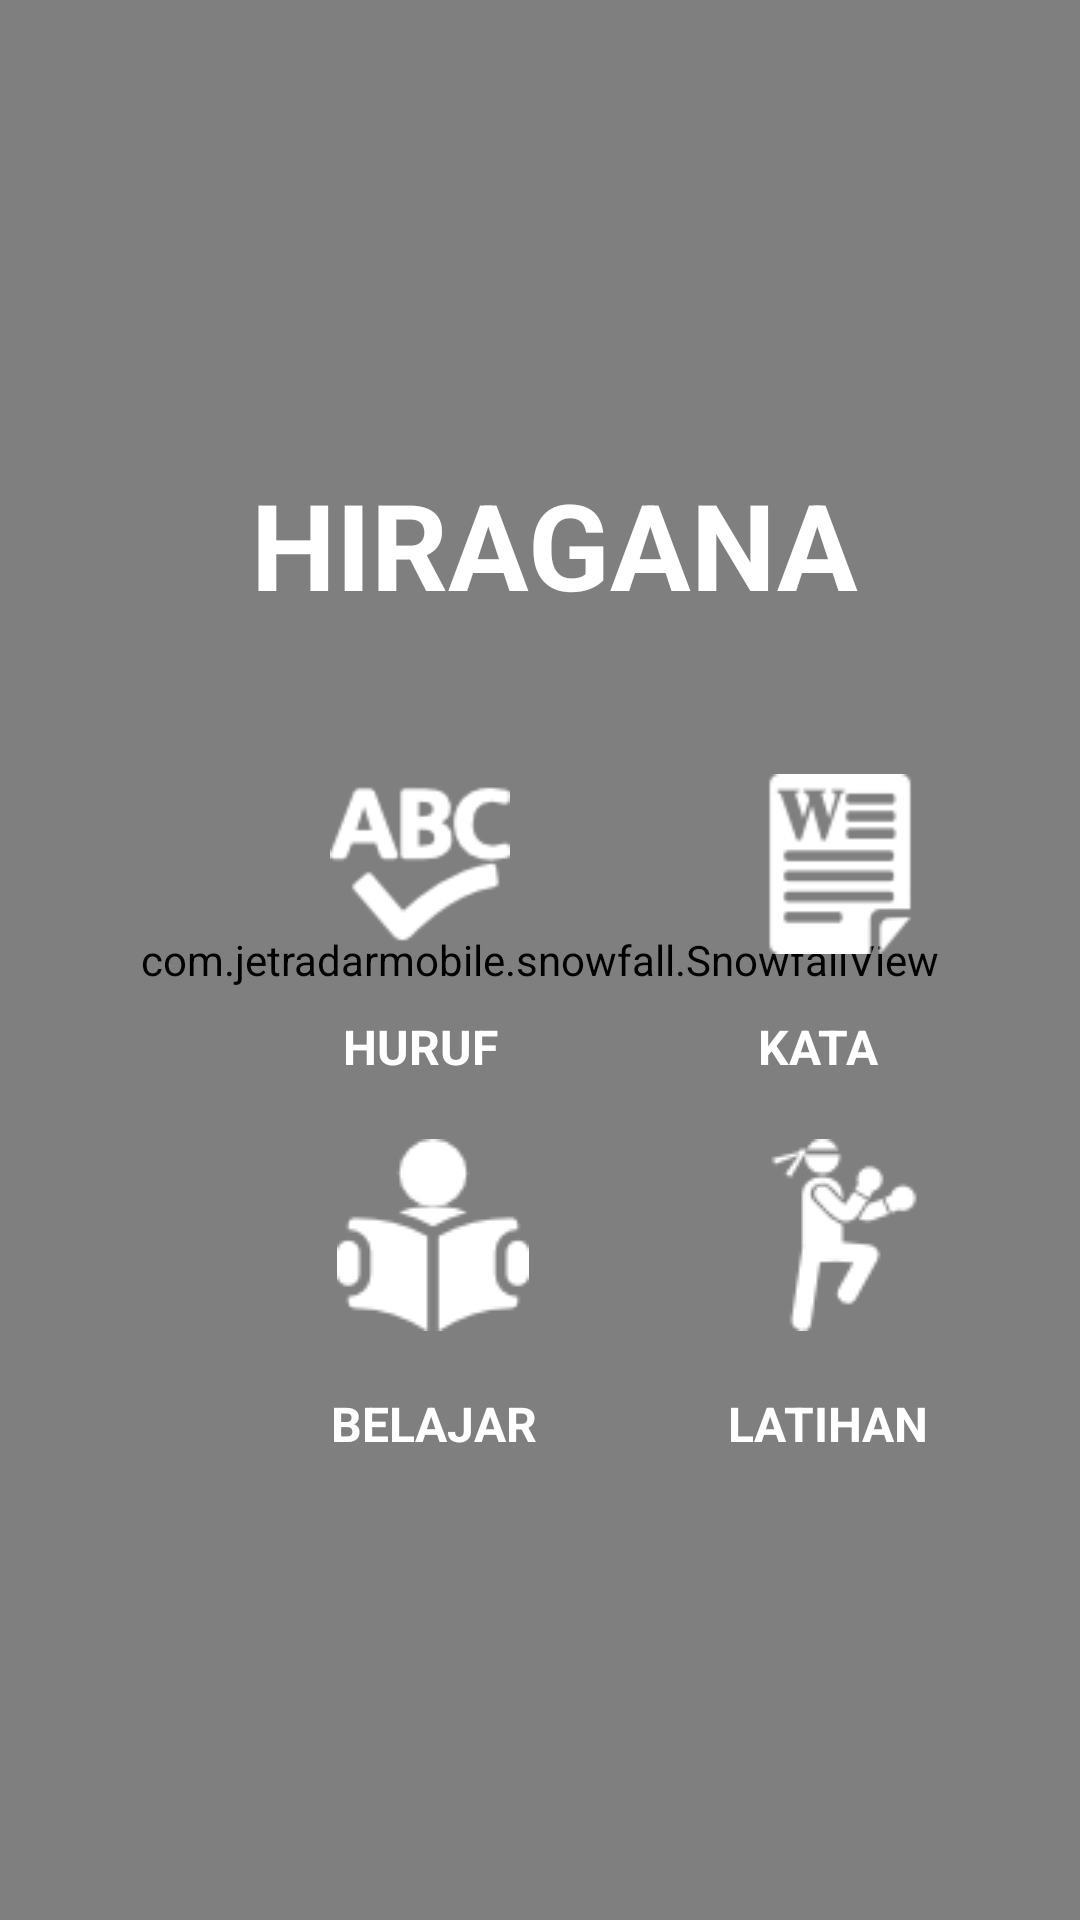

Locate icon controls on the screen. Image size 1080×1920, boxes as (x1, y1, x2, y2).
ibalphabet: (330, 787, 510, 950)
iblearn: (337, 1139, 529, 1331)
ibpractice: (772, 1139, 917, 1331)
ibwords: (769, 774, 924, 954)
